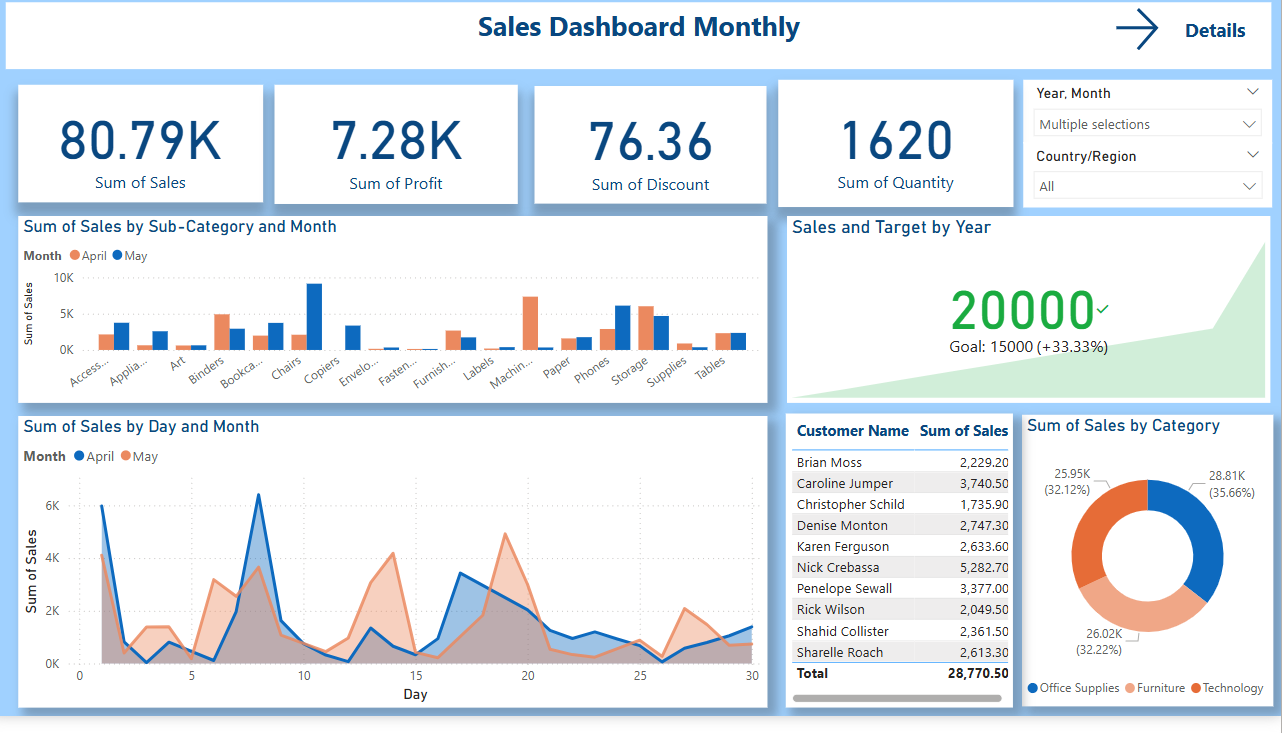

This screenshot's page, from the dashboard's own definition file:
{"tool":"powerbi","page":{"name":"Monthly Sales Dashboard","canvas":[1280,720],"ordinal":0},"visuals":[{"type":"textbox","box":[13.3,10.9,1257.1,66.4],"z":0},{"type":"card","fields":{"Values":["Sum(Sheet1.Sales)"]},"box":[26.5,92.9,242.9,116.6],"z":0,"group":"g1"},{"type":"slicer","fields":{"Values":["Sheet1.Order_month.Variation.Date Hierarchy.Year","Sheet1.Order_month.Variation.Date Hierarchy.Month"]},"box":[1024.1,88.1,247,63.3],"z":1000},{"type":"card","fields":{"Values":["Sum(Sheet1.Profit)"]},"box":[280.4,92.9,241.5,118],"z":1000,"group":"g1"},{"type":"group","id":"g1","title":"Group 1","box":[26.5,87.9,1246.8,623.8],"z":2000},{"type":"card","fields":{"Values":["Sum(Sheet1.Discount)"]},"box":[539.7,94.2,230.5,116.6],"z":2000,"group":"g1"},{"type":"card","fields":{"Values":["Sum(Sheet1.Quantity)"]},"box":[781.8,87.9,233.4,126.6],"z":3000,"group":"g1"},{"type":"actionButton","box":[1109.1,11.6,138.8,53.5],"z":3001},{"type":"slicer","fields":{"Values":["Sheet1.Country/Region"]},"box":[1023.8,150.4,247.3,65.1],"z":3002},{"type":"kpi","title":"Sales and Target by Year","fields":{"Goal":["Sum(KPI Visuals.Target Sales)"],"TrendLine":["KPI Visuals.Year"],"Indicator":["Sum(KPI Visuals.Actual Sales)"]},"box":[789,223.2,480.2,185.8],"z":3003},{"type":"clusteredColumnChart","fields":{"Category":["Sheet1.Sub-Category"],"Y":["Sum(Sheet1.Sales)"],"Series":["Sheet1.Order_month.Variation.Date Hierarchy.Month"]},"box":[26.5,223.2,743.7,185.2],"z":4000,"group":"g1"},{"type":"areaChart","fields":{"Category":["Sheet1.Order_month.Variation.Date Hierarchy.Day"],"Y":["Sum(Sheet1.Sales)"],"Series":["Sheet1.Order_month.Variation.Date Hierarchy.Month"]},"box":[26.5,422.2,743.7,289.5],"z":5000,"group":"g1"},{"type":"donutChart","fields":{"Category":["Sheet1.Category"],"Y":["Sum(Sheet1.Sales)"]},"box":[1023.6,421.1,249.7,289.5],"z":6000,"group":"g1"},{"type":"tableEx","fields":{"Values":["Sheet1.Customer Name","Sum(Sheet1.Sales)"]},"box":[789.2,419.1,225.6,292.1],"z":7000,"group":"g1"}]}

Visuals, with their boxes in screenshot pixels (x1, y1, x2, y2), scaled from the page's 1280x720 canvas onto the 1287x733 screenshot:
textbox: left=13, top=11, right=1277, bottom=79
card - Sum(Sheet1.Sales): left=27, top=95, right=271, bottom=213
slicer - Sheet1.Order_month.Variation.Date Hierarchy.Year x Sheet1.Order_month.Variation.Date Hierarchy.Month: left=1030, top=90, right=1278, bottom=154
card - Sum(Sheet1.Profit): left=282, top=95, right=525, bottom=215
"Group 1" group: left=27, top=89, right=1280, bottom=725
card - Sum(Sheet1.Discount): left=543, top=96, right=774, bottom=215
card - Sum(Sheet1.Quantity): left=786, top=89, right=1021, bottom=218
actionButton: left=1115, top=12, right=1255, bottom=66
slicer - Sheet1.Country/Region: left=1029, top=153, right=1278, bottom=219
"Sales and Target by Year" kpi: left=793, top=227, right=1276, bottom=416
clusteredColumnChart - Sheet1.Sub-Category x Sum(Sheet1.Sales): left=27, top=227, right=774, bottom=416
areaChart - Sheet1.Order_month.Variation.Date Hierarchy.Day x Sum(Sheet1.Sales): left=27, top=430, right=774, bottom=725
donutChart - Sheet1.Category x Sum(Sheet1.Sales): left=1029, top=429, right=1280, bottom=723
tableEx - Sheet1.Customer Name x Sum(Sheet1.Sales): left=794, top=427, right=1020, bottom=724
